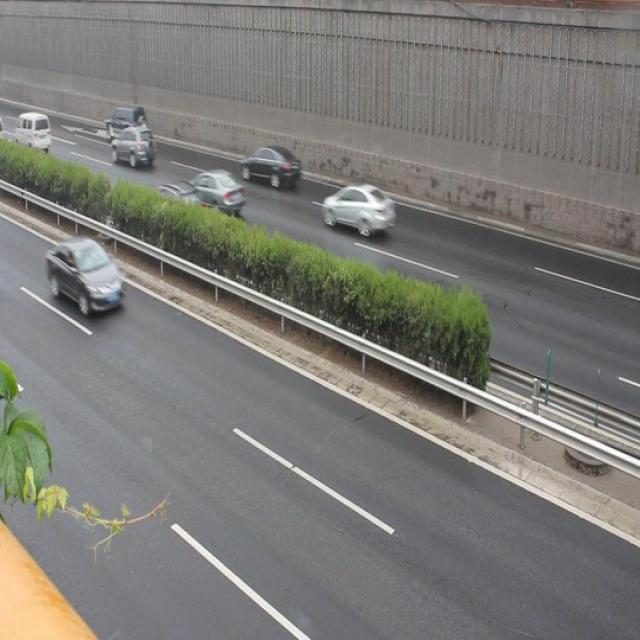car: (46, 235, 122, 311), (322, 182, 393, 236), (144, 182, 209, 233), (240, 143, 299, 190), (186, 170, 244, 216), (111, 127, 156, 168), (104, 105, 147, 144)
